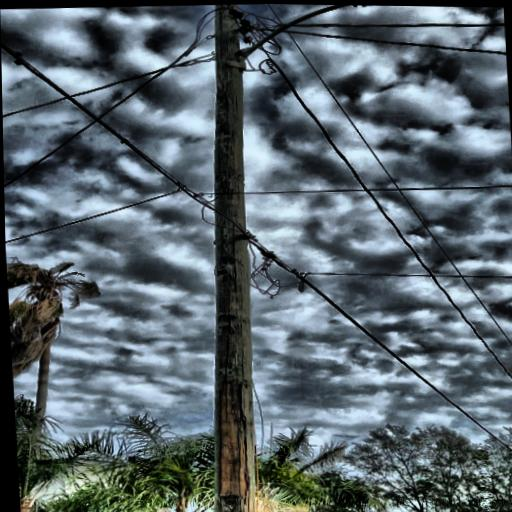pole: (153, 2, 279, 512)
street light: (221, 3, 411, 75)
